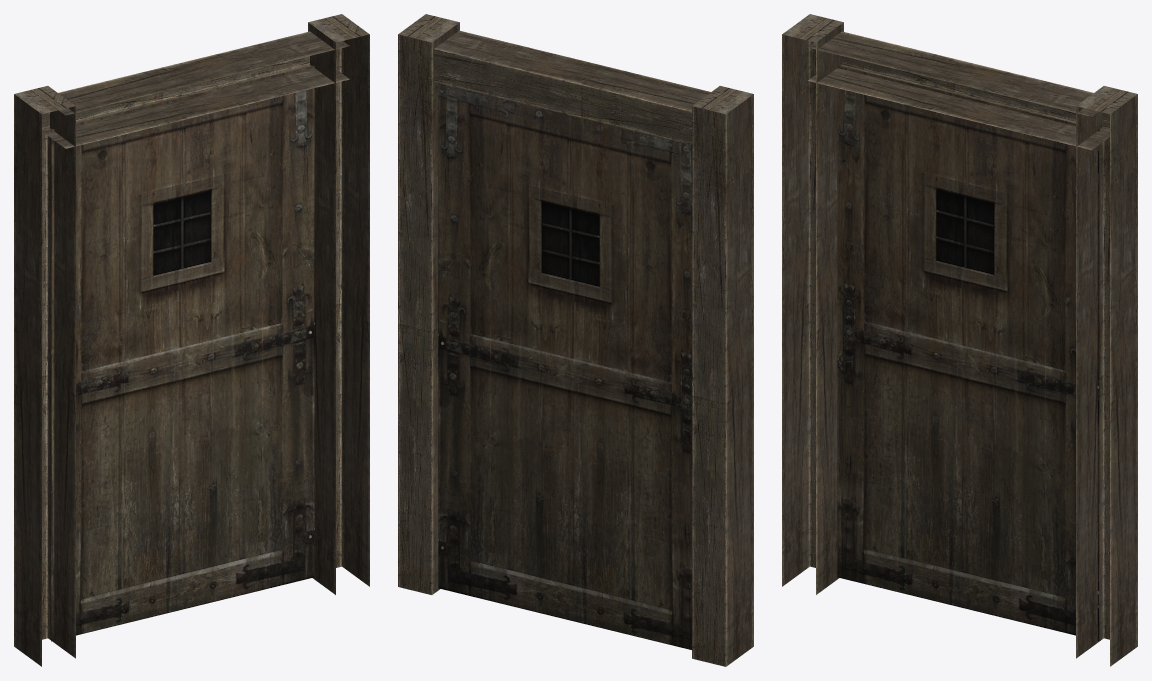
File: Doors3.fbx
3 renders of one model, left to right at view 1: azimuth 30°, elevation 25°; view 2: azimuth 150°, elevation 25°; view 3: azimuth 330°, elevation 25°, orthographic.
Visible parts, largest first — view 1: polySurface4032; view 2: polySurface4032; view 3: polySurface4032.
Part boxes in pixels (x1,y1,x2,y2): polySurface4032: (14,14,369,666); polySurface4032: (398,14,753,666); polySurface4032: (782,14,1137,666).
Size of the model in its own units: 3.41 by 5.49 by 0.5018.
